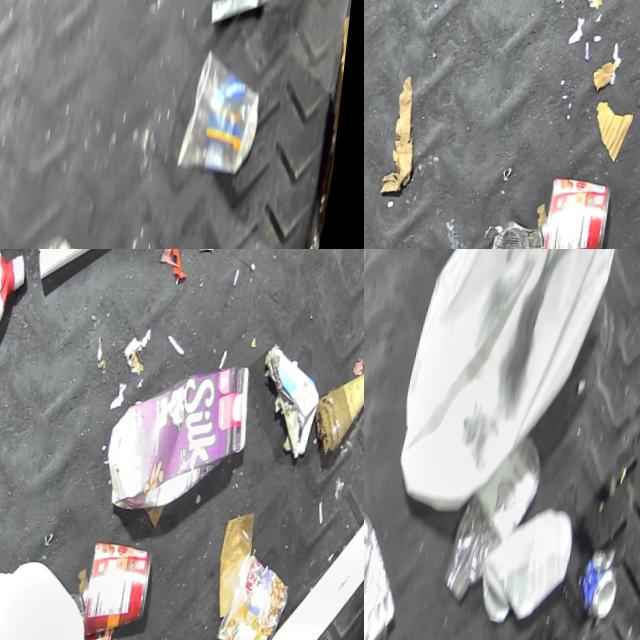can: (86, 542, 167, 640), (364, 509, 423, 640), (547, 175, 626, 249), (577, 549, 637, 635), (490, 217, 561, 249)
milk_jug: (385, 249, 623, 519), (0, 545, 102, 640)
plastic_bottle: (449, 414, 559, 611)
